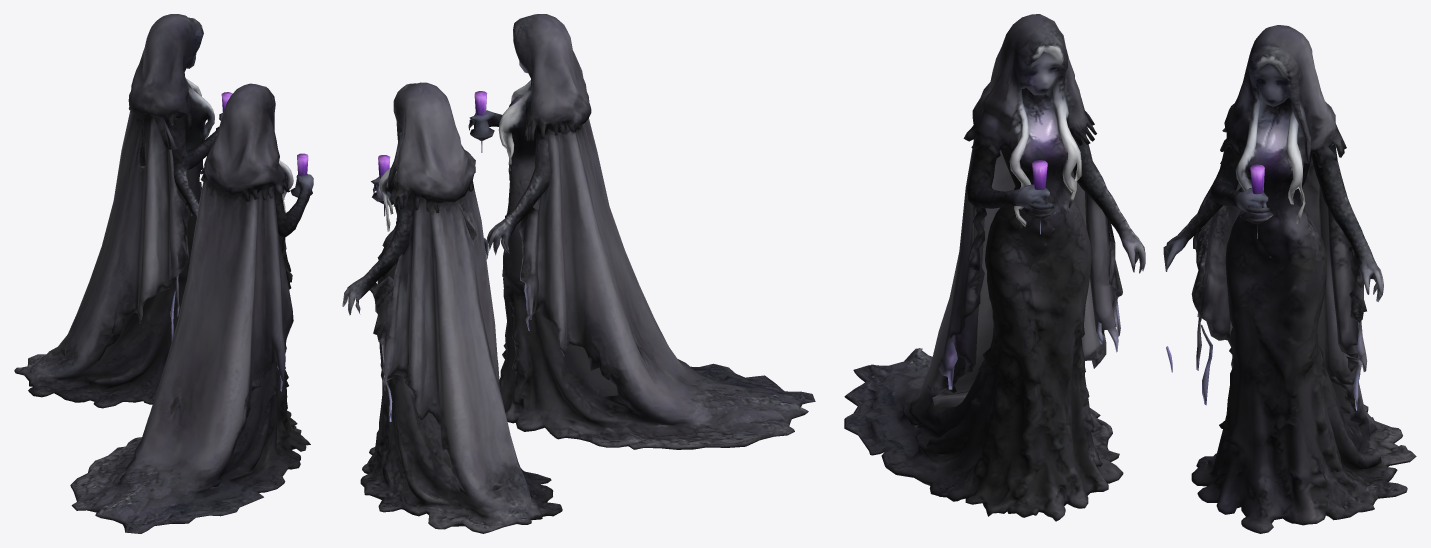
3 renders of one model, left to right at view 1: azimuth 30°, elevation 25°; view 2: azimuth 150°, elevation 25°; view 3: azimuth 270°, elevation 25°, orthographic. The views are drawn at different scales.
Visible parts, largest first — view 1: tripo_node_c5fb7947-36ec-4a3c-99e9-b1eed8ddd1e9; view 2: tripo_node_c5fb7947-36ec-4a3c-99e9-b1eed8ddd1e9; view 3: tripo_node_c5fb7947-36ec-4a3c-99e9-b1eed8ddd1e9.
Boxes of the visible parts, x1=… form: tripo_node_c5fb7947-36ec-4a3c-99e9-b1eed8ddd1e9: x1=14, y1=14, x2=313, y2=533; tripo_node_c5fb7947-36ec-4a3c-99e9-b1eed8ddd1e9: x1=342, y1=14, x2=815, y2=533; tripo_node_c5fb7947-36ec-4a3c-99e9-b1eed8ddd1e9: x1=844, y1=14, x2=1416, y2=533.
Size of the model in its own units: 0.7339 by 0.9061 by 0.9961.
Materials: 1 (1 with a texture image).
